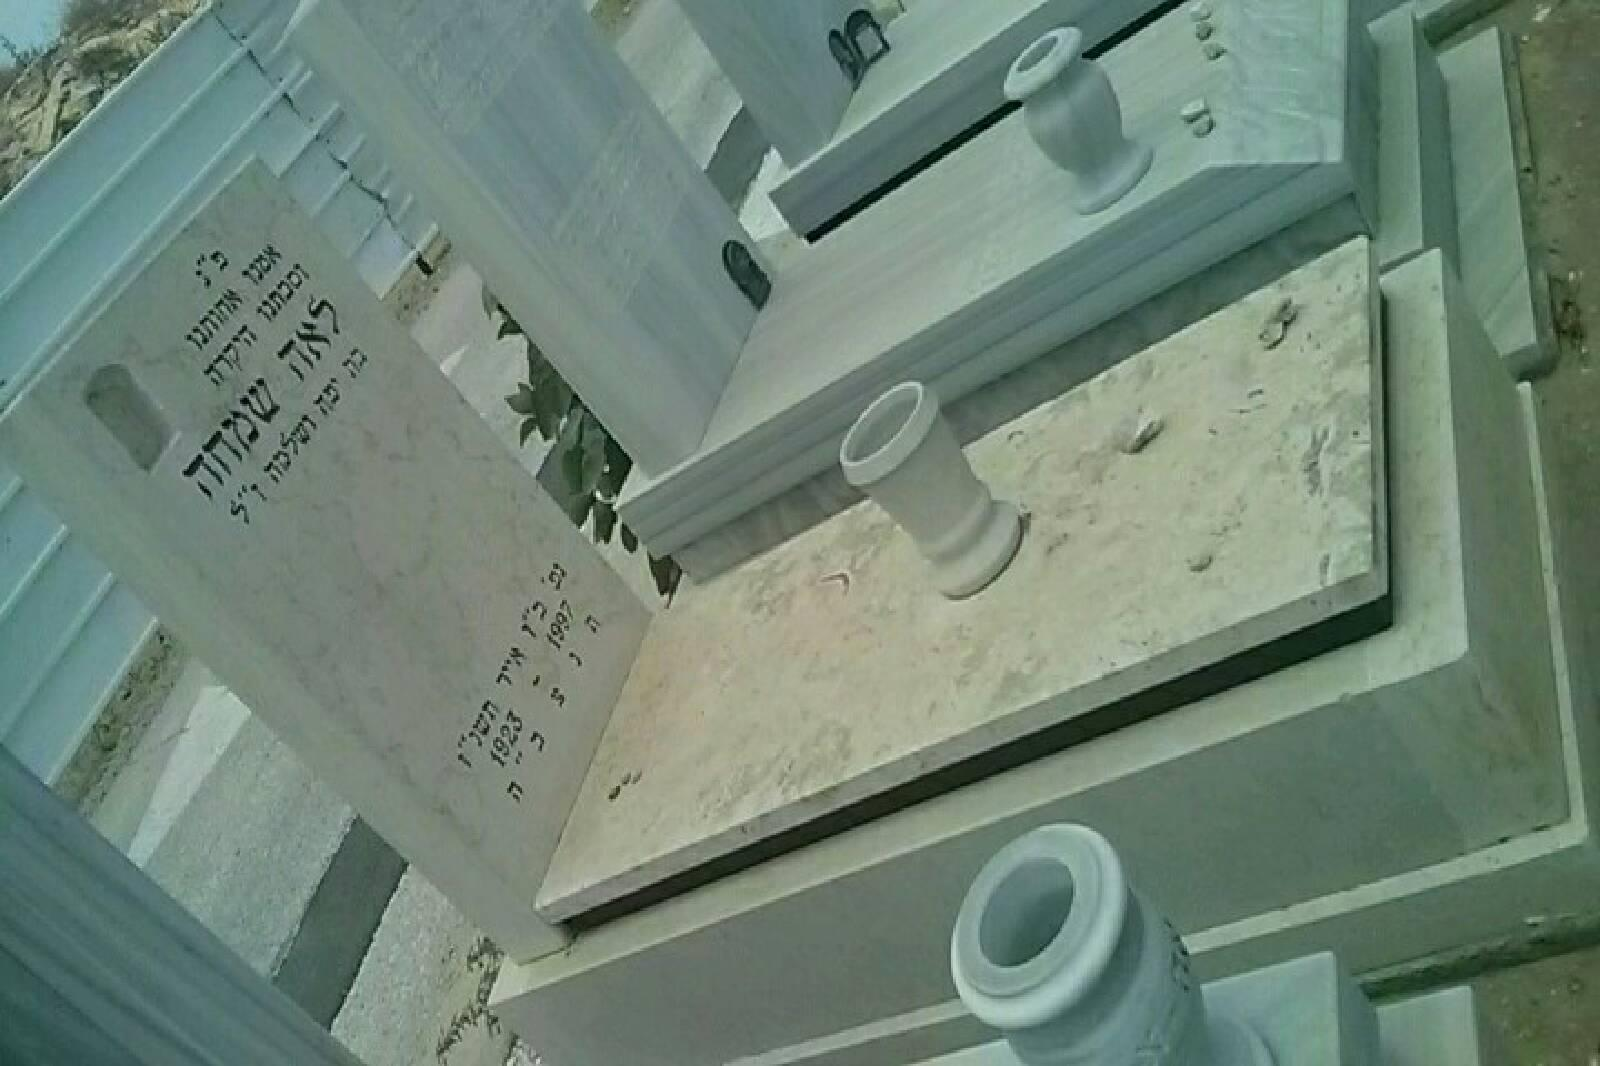vault: (15, 0, 1593, 1056)
